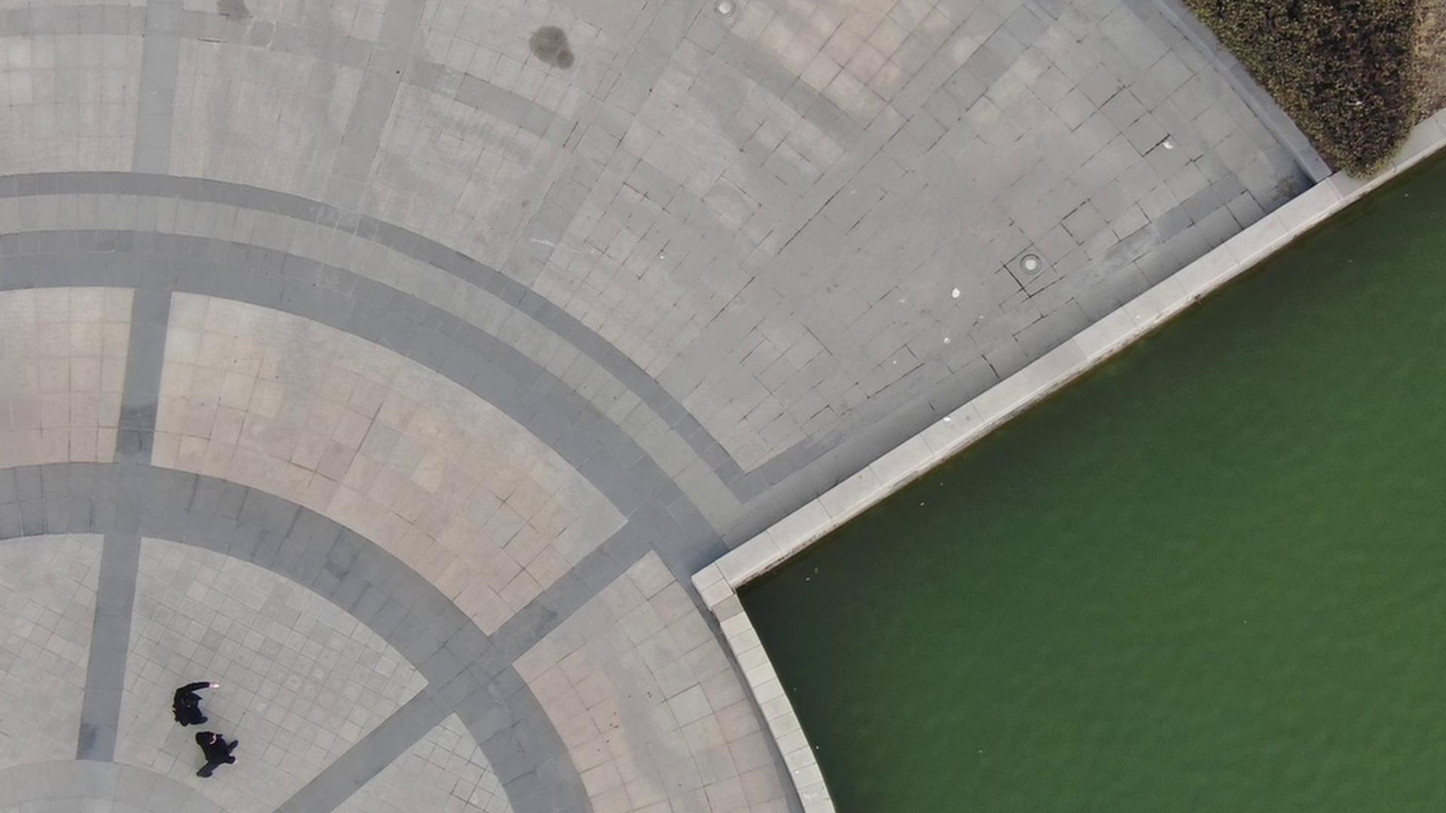human: (178, 669, 236, 726), (211, 729, 267, 777)
